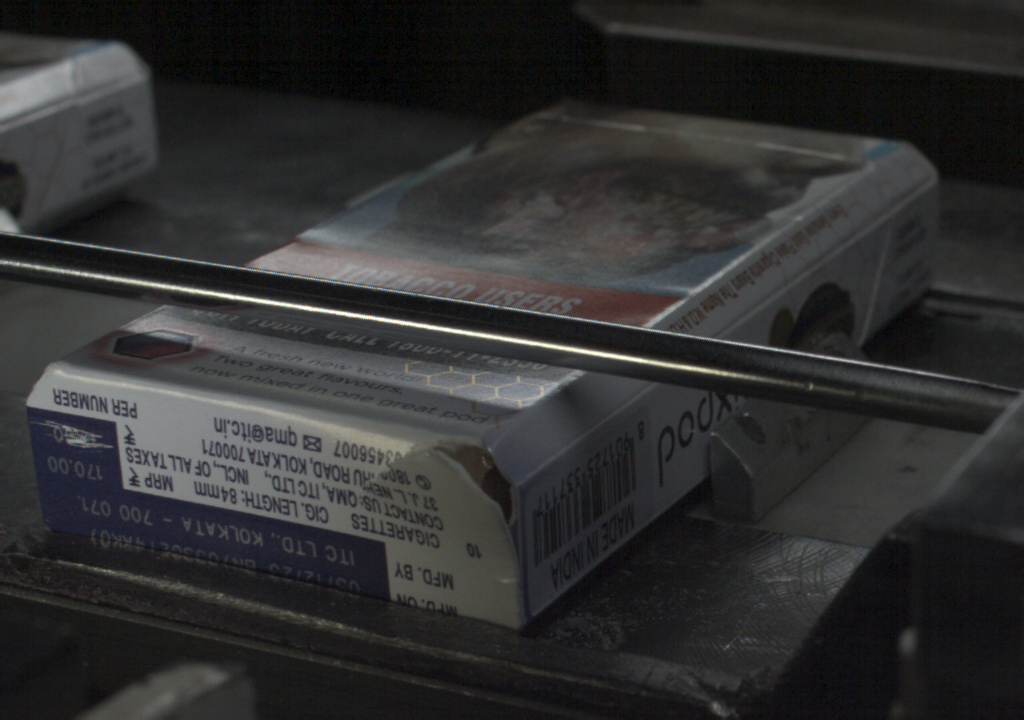g_label: (39, 488, 390, 602)
g_lmiter: (717, 271, 804, 334), (807, 211, 887, 269), (581, 386, 650, 432), (521, 432, 581, 482)
g_miter: (893, 172, 935, 212)
ng_bottom: (414, 439, 515, 539)
price: (33, 415, 121, 486)
